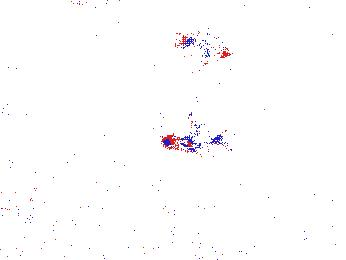X-ray fish: (143, 104, 200, 140)
red belly glassfish: (163, 133, 227, 152)
redtail glassfish: (175, 25, 236, 60)
